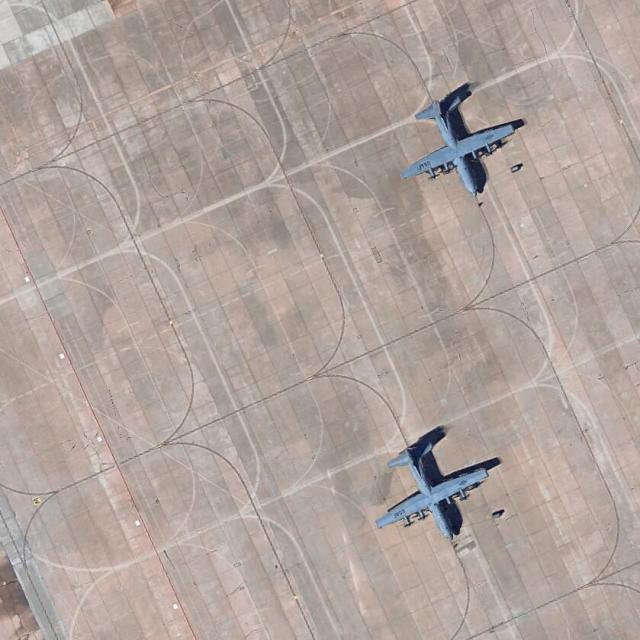fighter jet: (377, 430, 476, 543), (408, 85, 503, 201)
